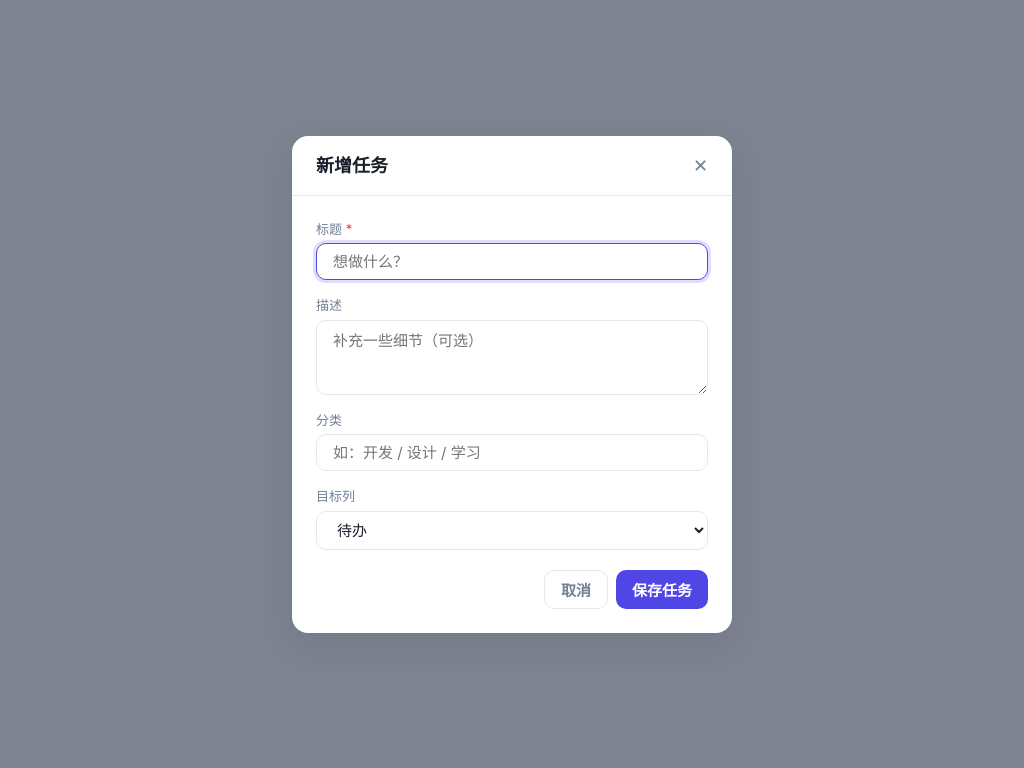
AddTaskModal › 聚焦分类输入时展示已有分类建议并支持选择
Focus the field labelled "分类" at (512, 452), box top-left (316, 434), bottom-right (708, 471)
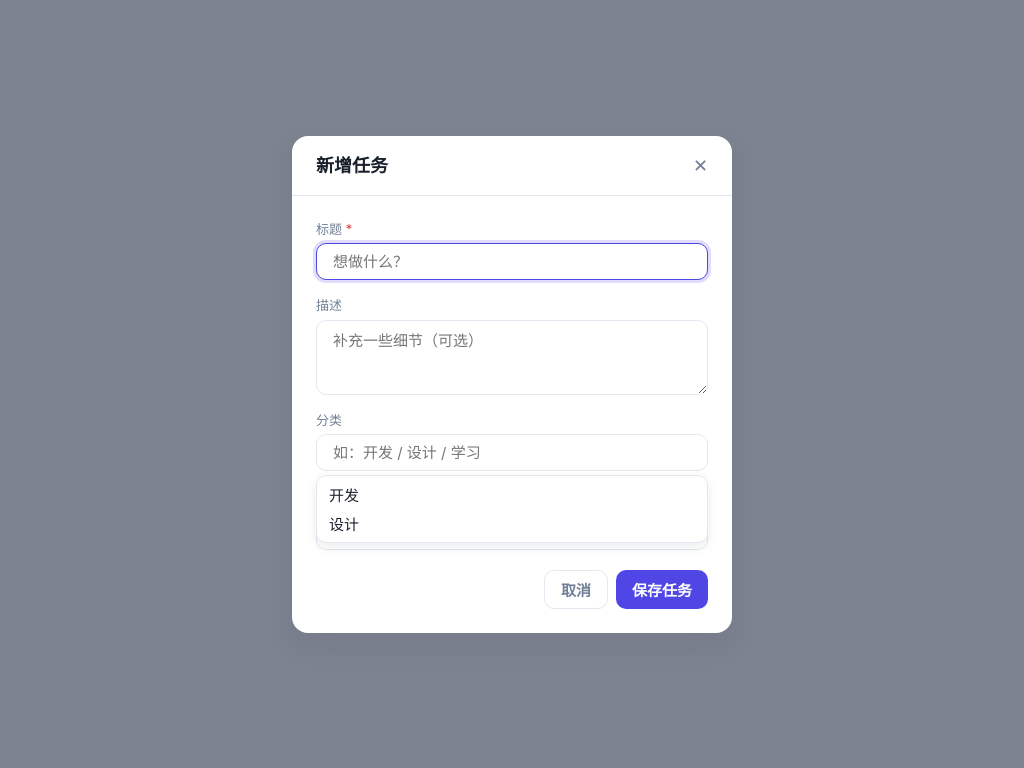
Result: the button "开发" is shown
Press the mouse on the button "开发" at (344, 496), box top-left (321, 480), bottom-right (703, 509)
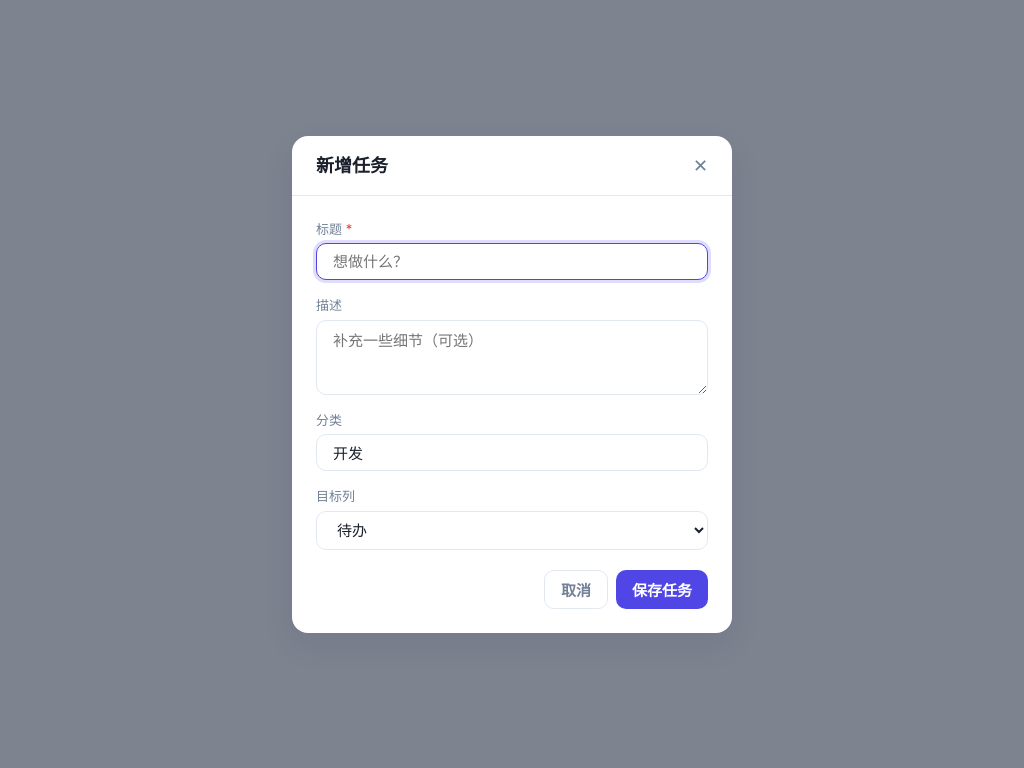
Result: the field labelled "分类" holds "开发" at top-left (316, 434), bottom-right (708, 471)
